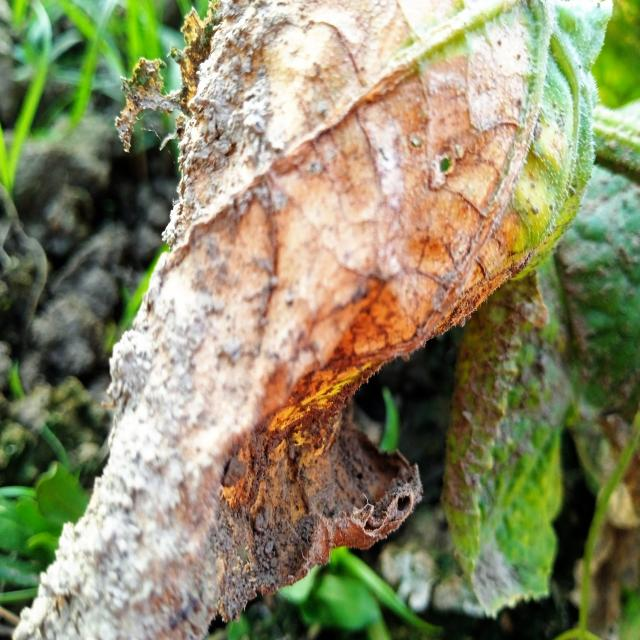Gummy-Stem-Blight: (7, 1, 631, 640)
